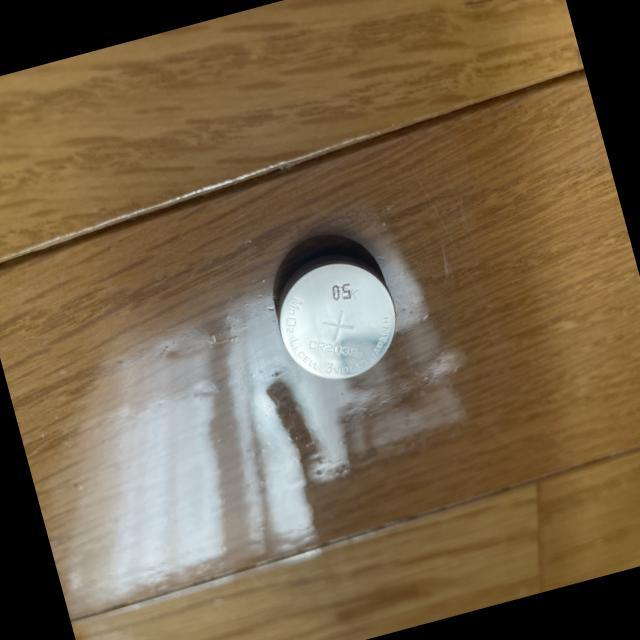COIN: (256, 237, 410, 393)
